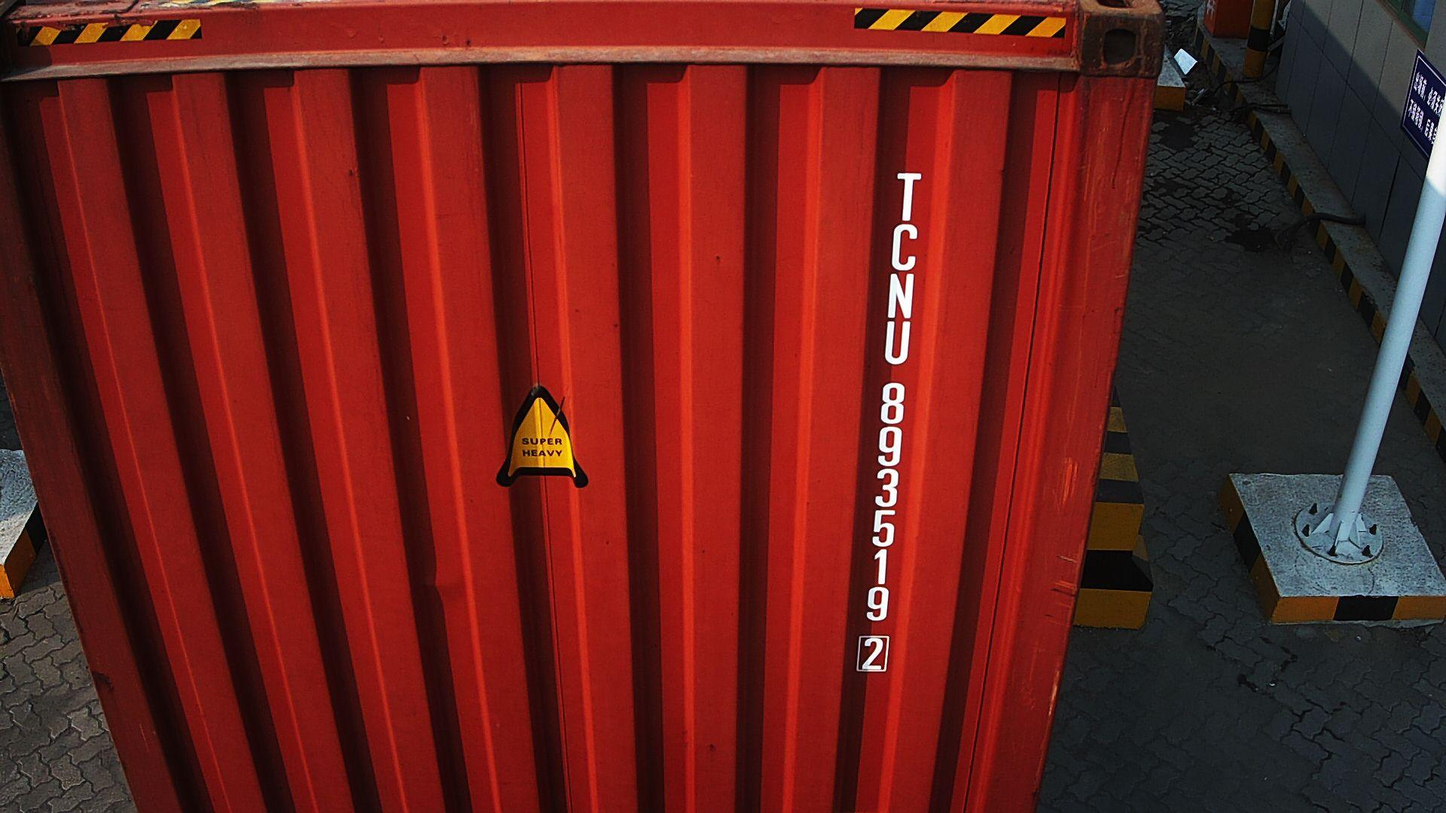container-numbers: (854, 169, 924, 677)
